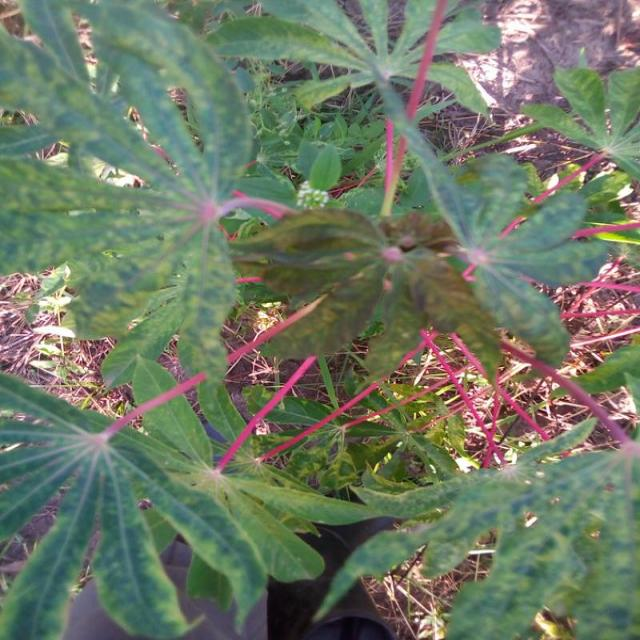cassava leaf: (1, 1, 636, 637), (0, 368, 266, 638)
